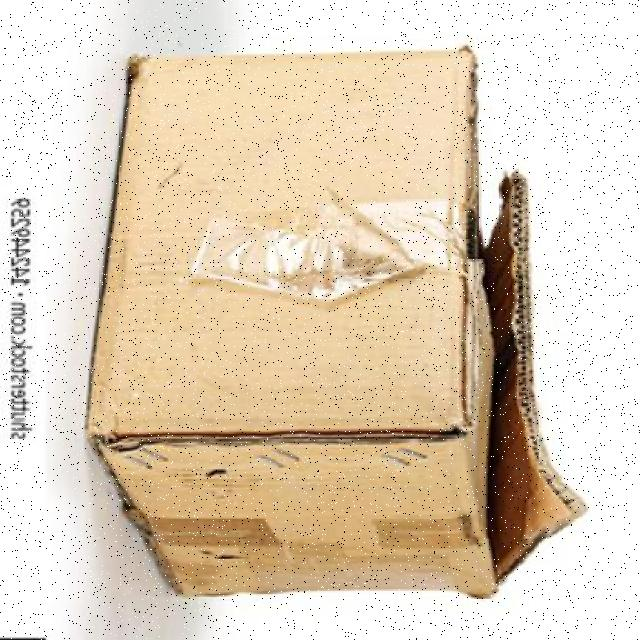defect: (77, 37, 585, 605)
